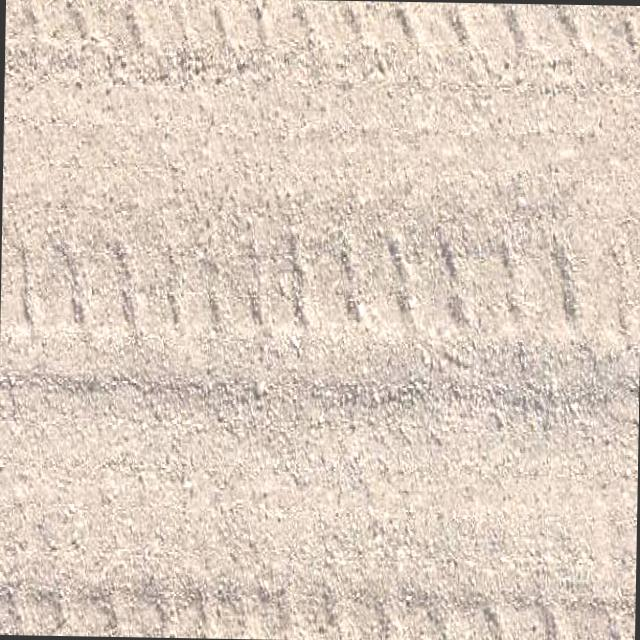suelo_seco: (64, 74, 538, 534)
